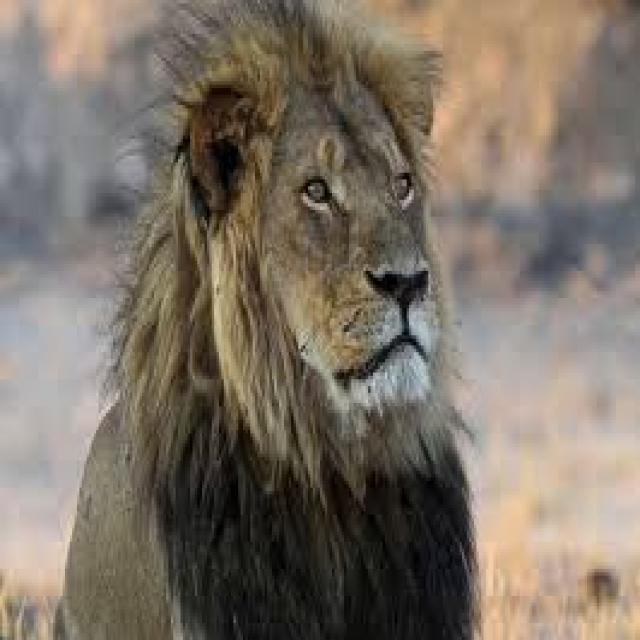Lion: (55, 0, 486, 637)
